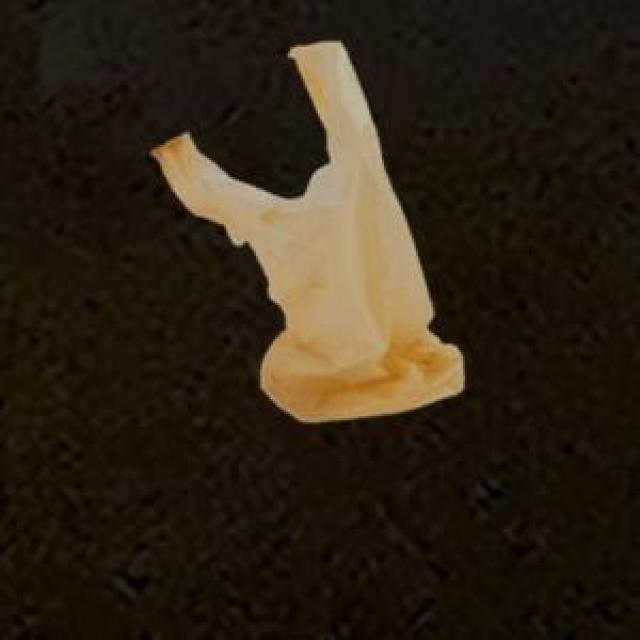waste: (152, 41, 464, 422)
